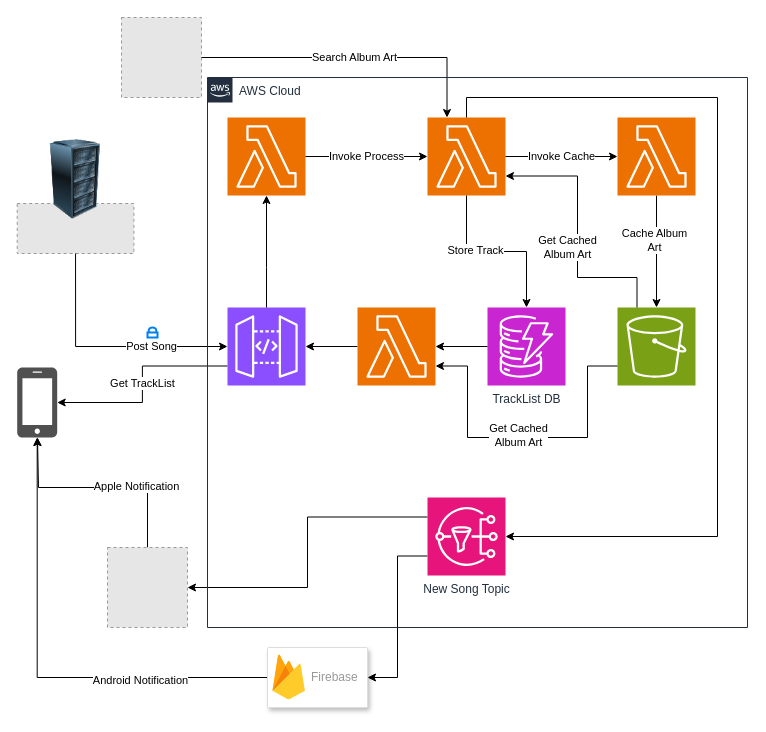
Some shapes in this 766 by 732 pixel diagram are drawn without their labels. Grey dashed boxes stand in for pictures. The shapes that lost their labels are listed below. From the top down, each one's centre as x and y in pixels, then its label:
At [396,346]: "Retrieve TrackList and Album Art".
At [656,346]: "Album Art Cache".
